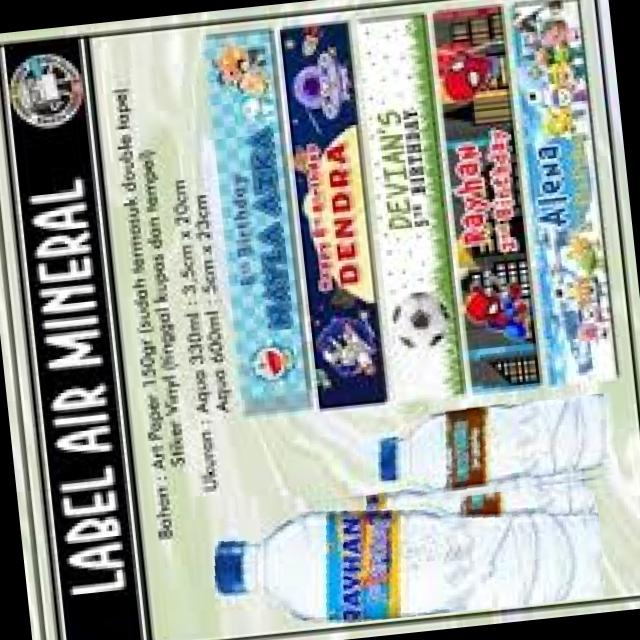plastic bottle: (179, 453, 606, 638), (356, 391, 620, 510)
